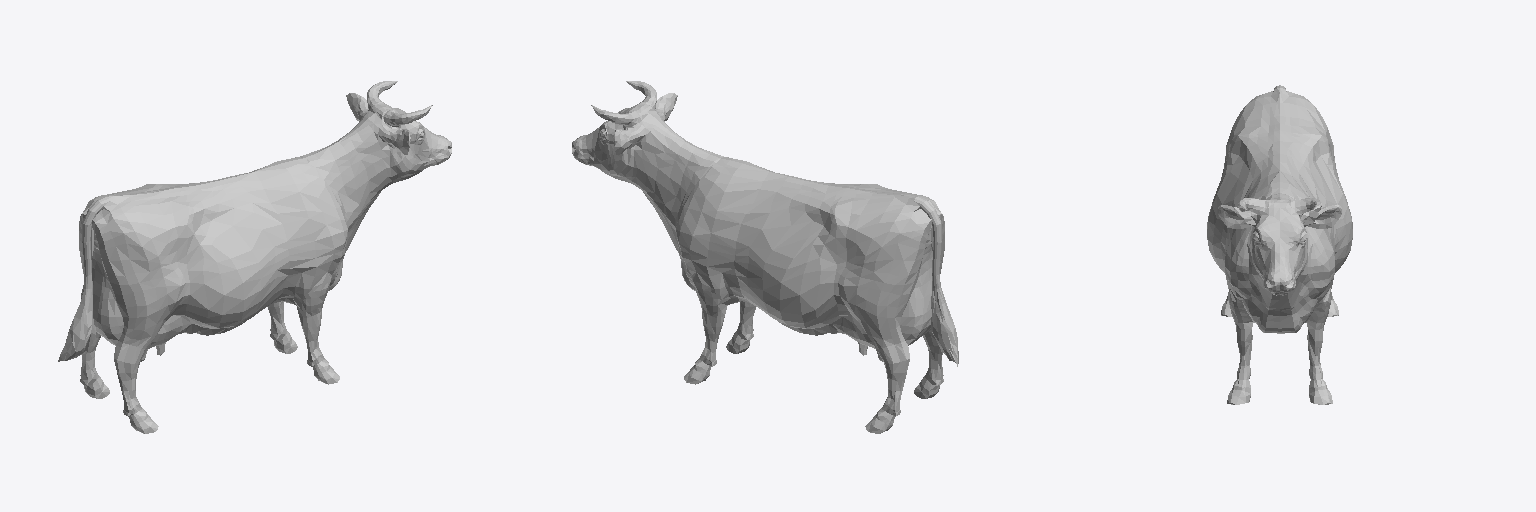
Rendered from cow.obj.
3 views of the same model, side by side, from view 1: azimuth 30°, elevation 25°; view 2: azimuth 150°, elevation 25°; view 3: azimuth 270°, elevation 25° (orthographic).
Bounding box in the file's own units: 5 × 3.06 × 1.63.